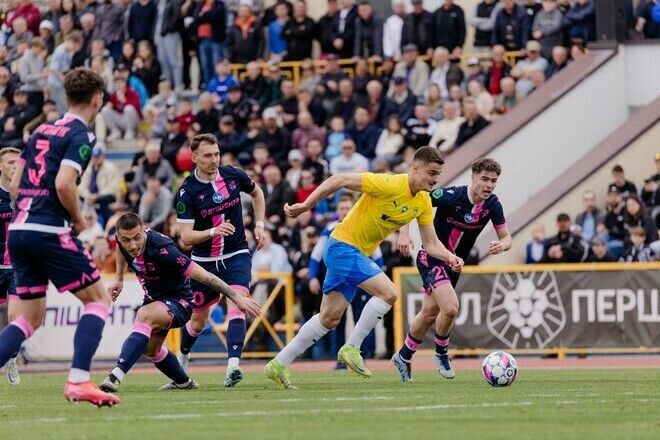ball: (481, 351, 519, 387)
ignore: (0, 148, 27, 298)
player: (262, 146, 464, 390), (1, 67, 117, 408), (99, 211, 264, 393), (390, 157, 513, 383), (172, 134, 267, 389)
